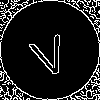V: (25, 25, 72, 79)
